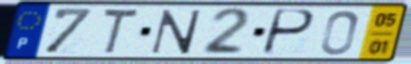0: (319, 8, 362, 57)
2: (202, 6, 254, 58)
7: (45, 6, 96, 56)
N: (148, 8, 205, 56)
P: (258, 7, 318, 57)
T: (99, 7, 141, 57)
